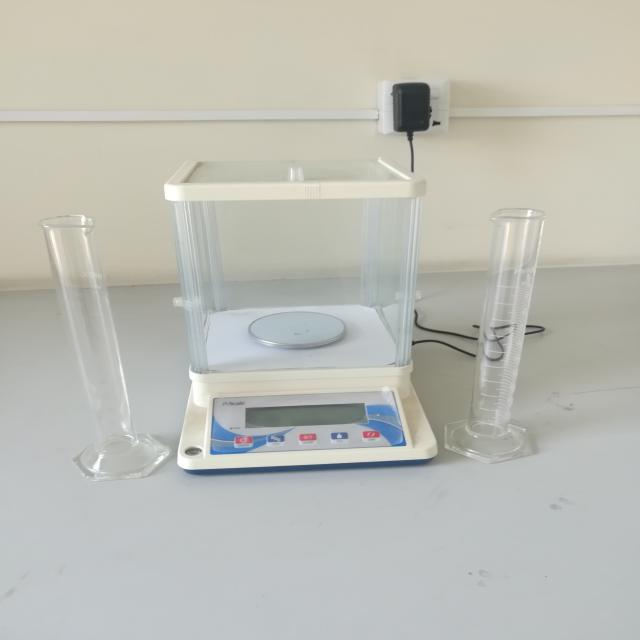Measuring_Cylinder: (19, 194, 198, 496), (428, 169, 594, 486)
